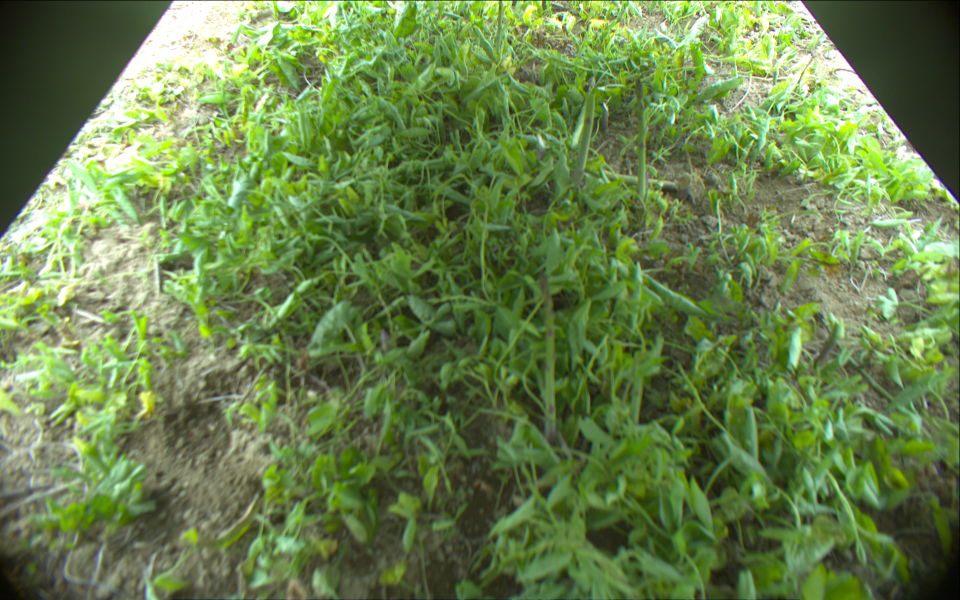aspa: (566, 82, 597, 191), (541, 275, 555, 443), (633, 79, 652, 200), (496, 1, 502, 50)
